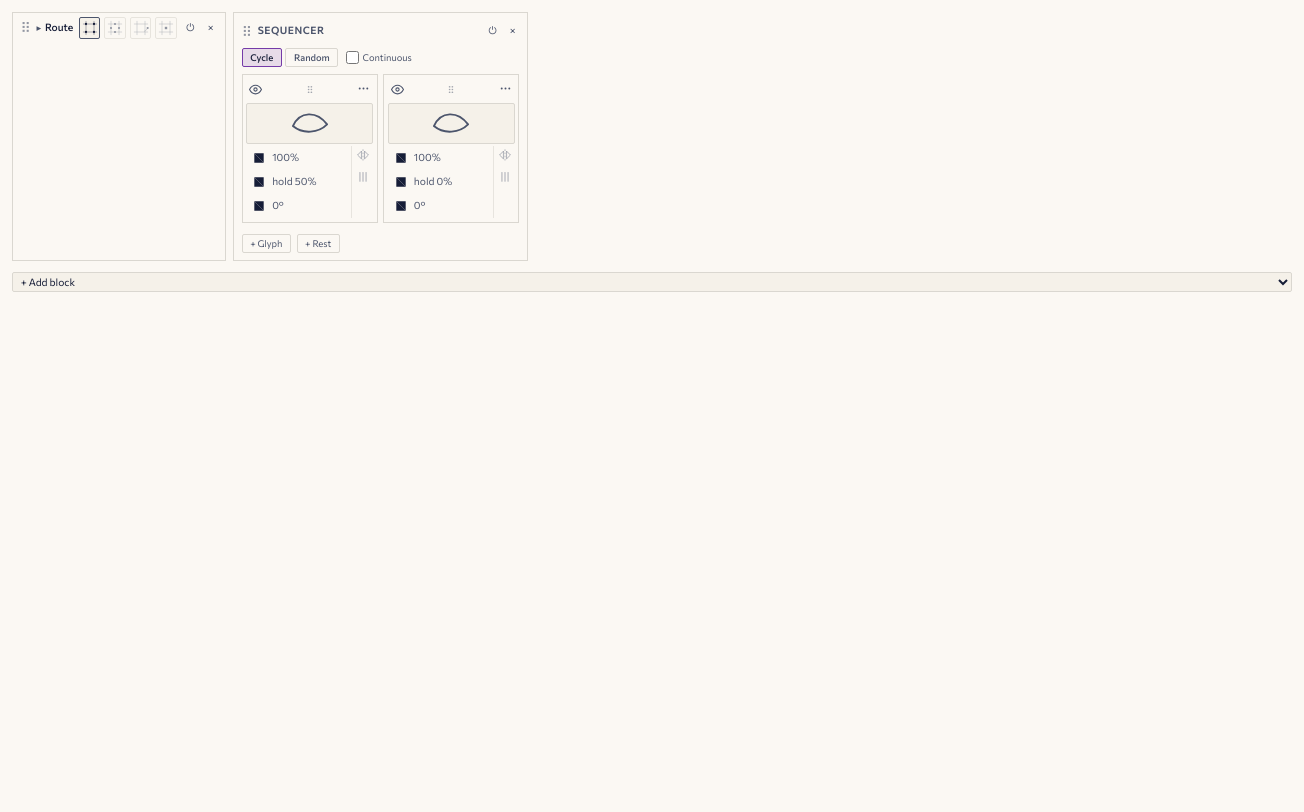
AnchorGhostOverlay — the slot Scale trigger › raises the same overlay `hold` does, while NO motif layer is selected
Step 1. Hover over the 1st element showing "100%" → (275, 158), box [250,146,299,170]
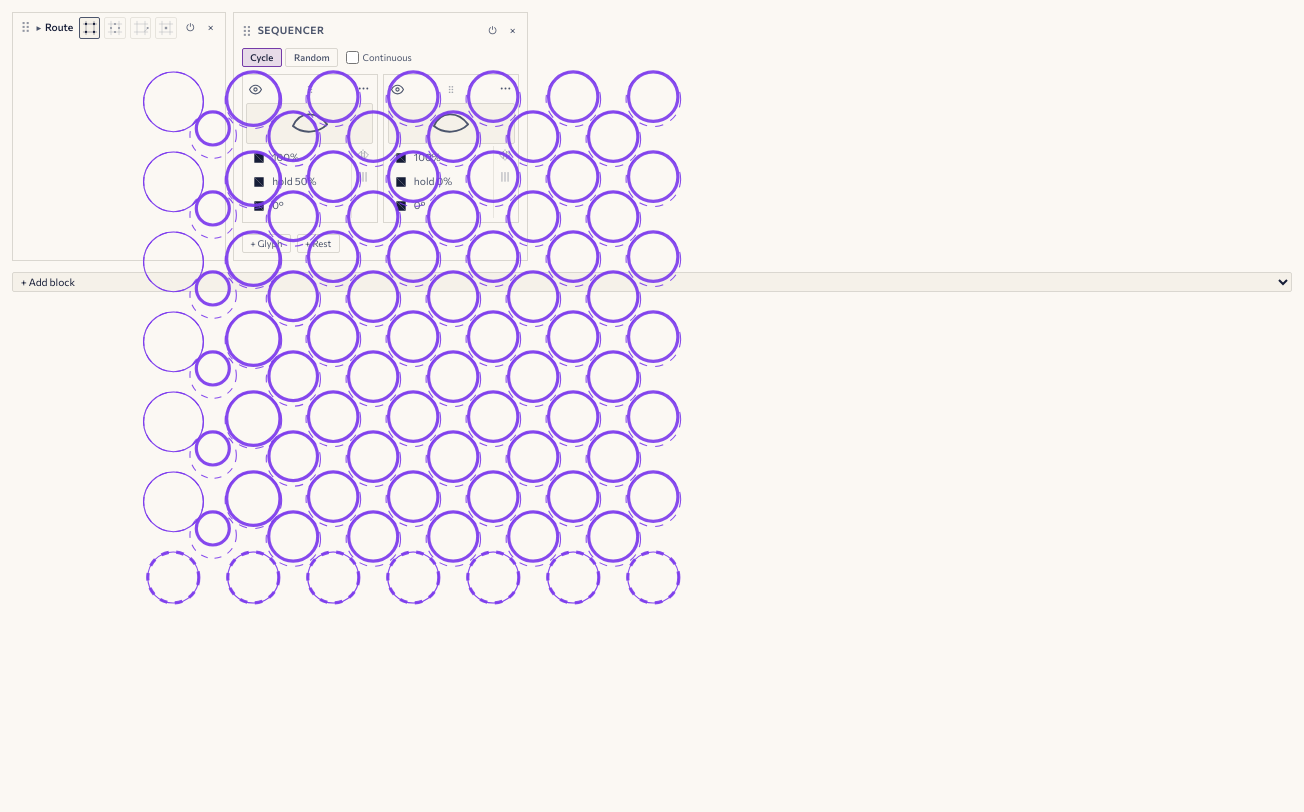
expect the icon with test id "motif-footprint-overlay" is shown: met, box [12,12,812,612]
